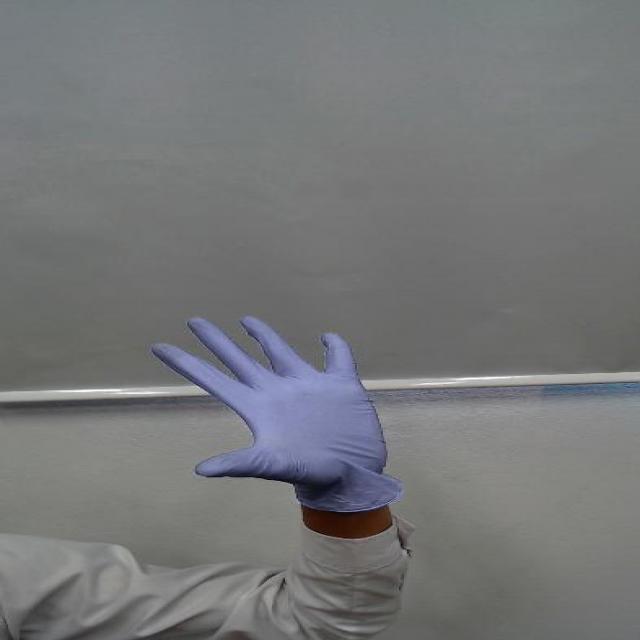Glove: (142, 304, 412, 513)
